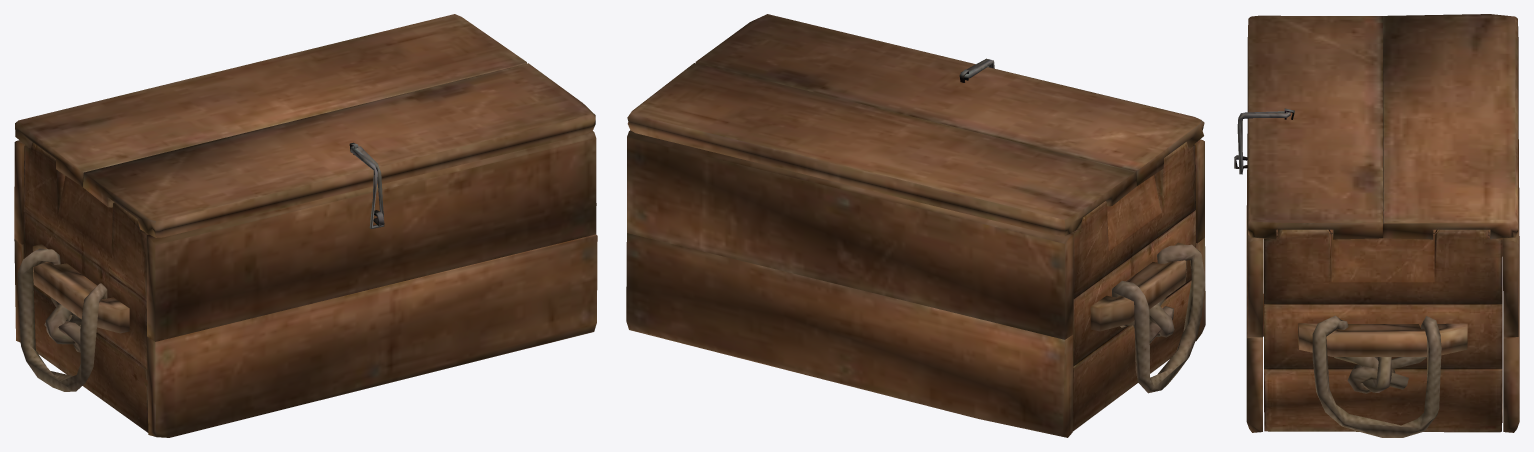
File: wooden_crate_01.glb
The picture shows the model from 3 angles, left to right: view 1: azimuth 30°, elevation 25°; view 2: azimuth 150°, elevation 25°; view 3: azimuth 270°, elevation 25°; orthographic projection. The views are drawn at different scales.
Visible parts, largest first — view 1: wooden_crate_01_lid; view 2: wooden_crate_01_lid; view 3: wooden_crate_01_lid.
Part boxes in pixels (x1,y1,x2,y2): wooden_crate_01_lid: [14, 14, 597, 437]; wooden_crate_01_lid: [626, 14, 1205, 437]; wooden_crate_01_lid: [1234, 14, 1519, 437].
Bounding box in the file's own units: 0.8245 × 0.3469 × 0.4056.
Materials: 1 (1 with a texture image).
